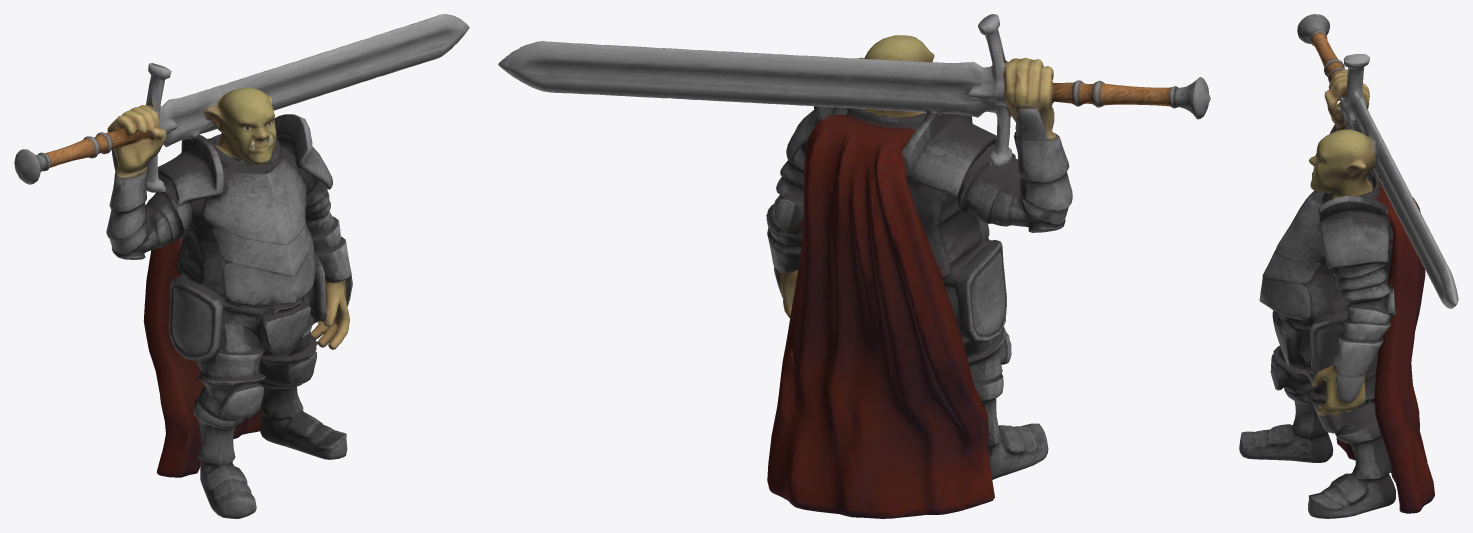
File: MZ4250 - Ogre in Plate Armor with Sword.glb
3 renders of one model, left to right at view 1: azimuth 30°, elevation 25°; view 2: azimuth 150°, elevation 25°; view 3: azimuth 270°, elevation 25°, orthographic. The views are drawn at different scales.
Visible parts, largest first — view 1: Plate_sword_low.001; view 2: Plate_sword_low.001; view 3: Plate_sword_low.001.
Part boxes in pixels (left/top/right/bottom): Plate_sword_low.001: left=14, top=14, right=469, bottom=518; Plate_sword_low.001: left=498, top=14, right=1210, bottom=518; Plate_sword_low.001: left=1239, top=14, right=1458, bottom=518.
Size of the model in its own units: 9.37 by 7.12 by 3.62.
1 material, 1 textured.
